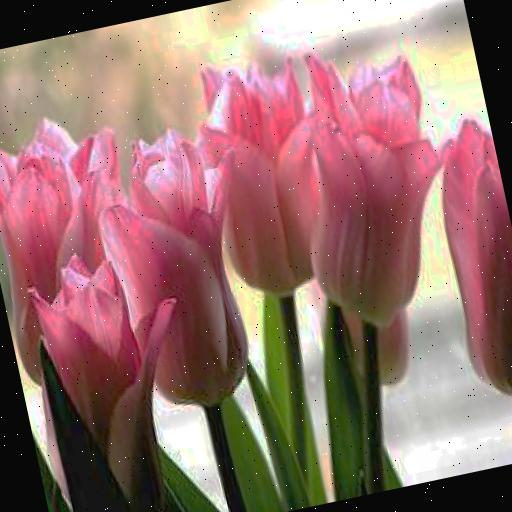tulip: (267, 30, 470, 338), (85, 108, 280, 428), (17, 241, 216, 512), (0, 88, 164, 397), (185, 44, 351, 312)
